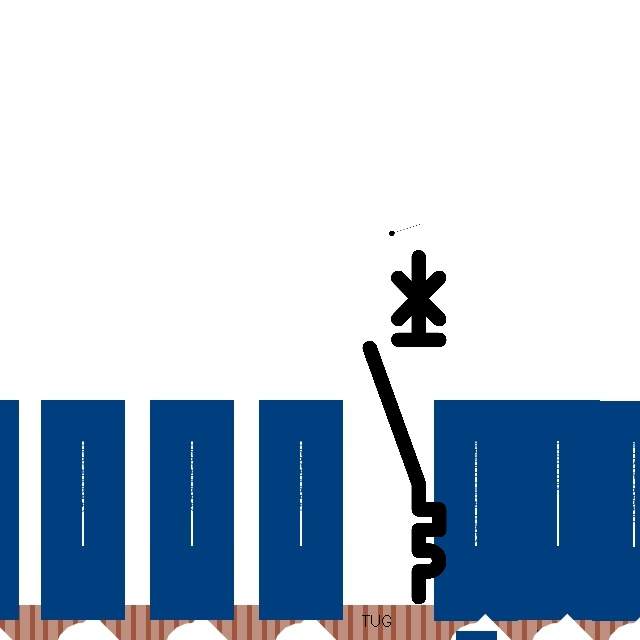interruptor_termomagnetico: (361, 248, 448, 606)
